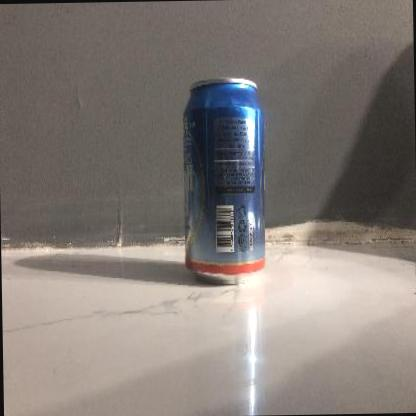alumunium_can: (180, 75, 268, 288)
